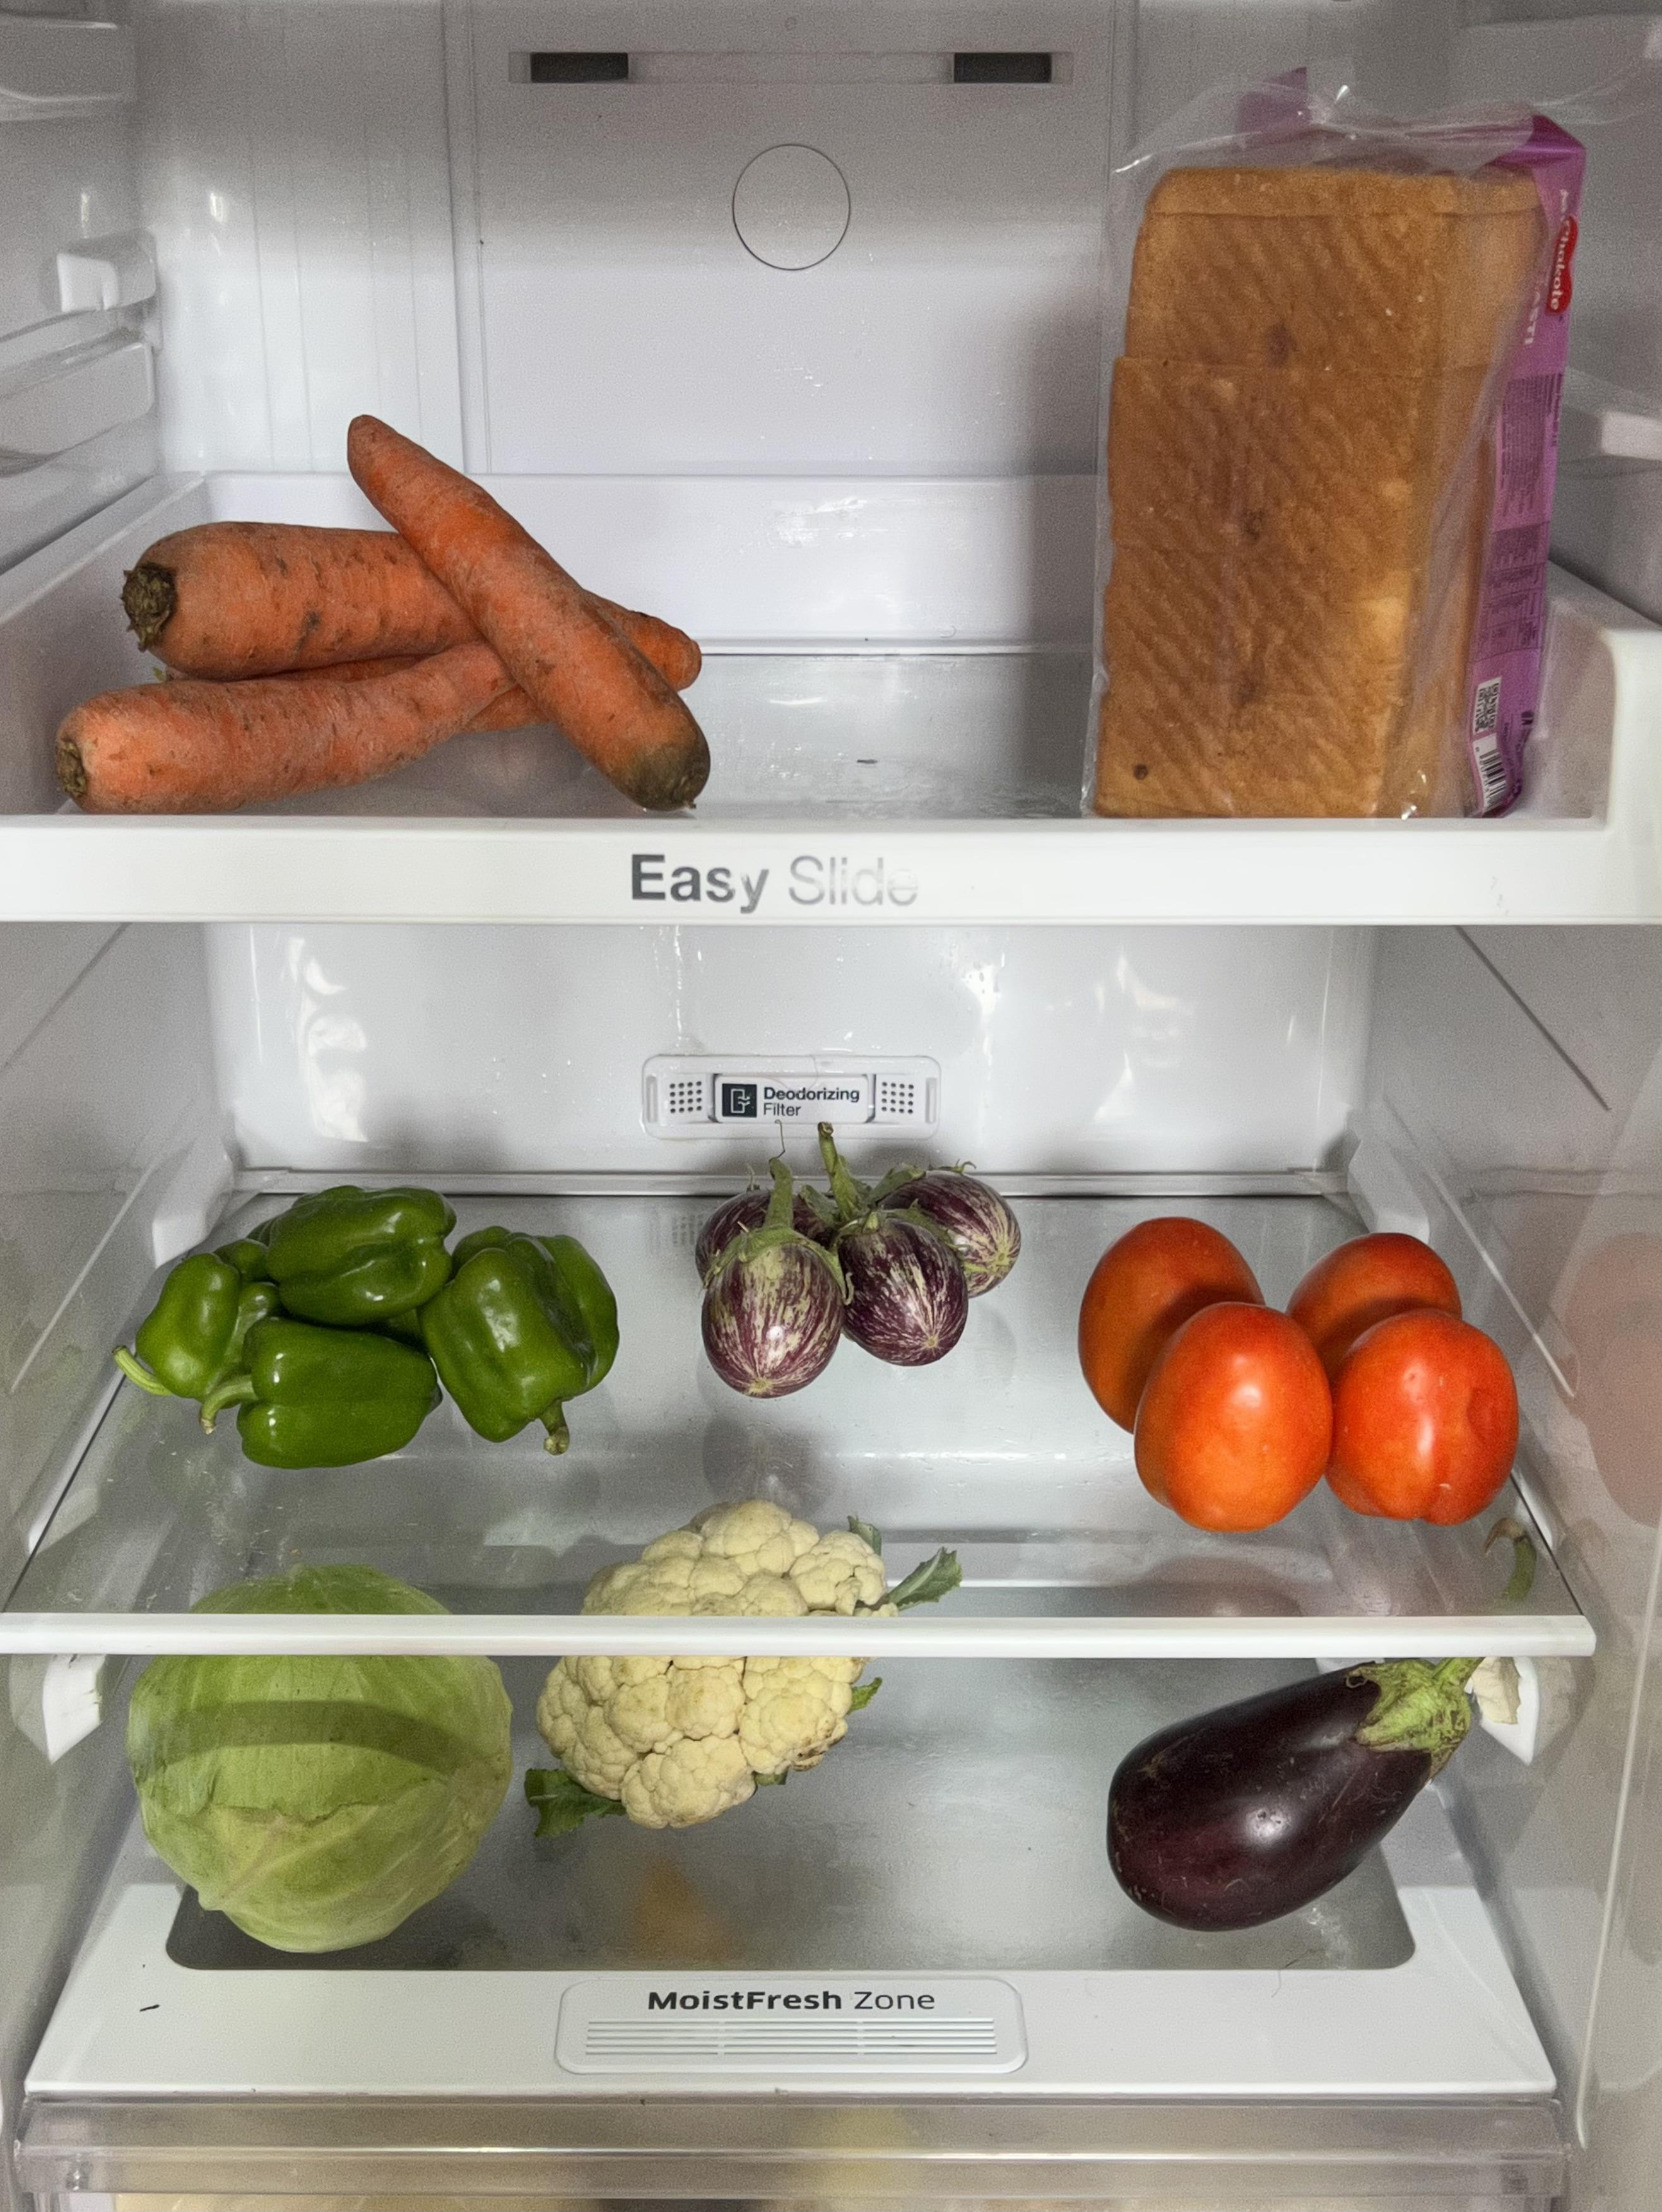bread: (1075, 127, 1578, 808)
bringal: (1098, 1664, 1479, 1934), (691, 1145, 1013, 1390)
cabbage: (120, 1646, 510, 1954)
capsicum: (131, 1184, 611, 1468)
carrots: (59, 468, 721, 805)
cauliflower: (541, 1512, 897, 1823)
tomato: (1075, 1210, 1517, 1528)
